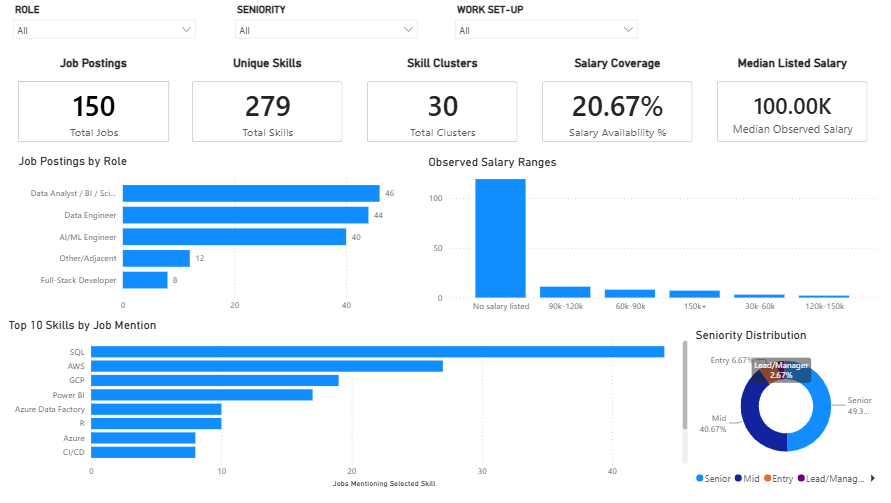

This screenshot's page, from the dashboard's own definition file:
{"tool":"powerbi","page":{"name":"Market Overview","canvas":[1280,720],"ordinal":0},"visuals":[{"type":"slicer","fields":{"Values":["jobs_enriched.standardized_role"]},"box":[9.3,0,280.8,80.7],"z":0},{"type":"slicer","fields":{"Values":["jobs_enriched.seniority_level_for_scoring"]},"box":[327.4,0,280.8,80.7],"z":1000},{"type":"slicer","fields":{"Values":["jobs_enriched.work_setup_final"]},"box":[640.8,0,280.8,80.7],"z":2000},{"type":"cardVisual","title":"Job Postings","fields":{"Data":["_Measures.Total Jobs"]},"box":[9.3,80.7,250,140],"z":3000},{"type":"cardVisual","title":"Unique Skills","fields":{"Data":["_Measures.Total Skills"]},"box":[259.1,80.7,249.8,140],"z":4000},{"type":"cardVisual","title":"Skill Clusters","fields":{"Data":["_Measures.Total Clusters"]},"box":[508.9,80.7,249.8,140],"z":5000},{"type":"cardVisual","title":"Salary Coverage","fields":{"Data":["_Measures.Salary Availability %"]},"box":[758.7,80.7,249.8,140],"z":6000},{"type":"cardVisual","title":"Median Listed Salary","fields":{"Data":["_Measures.Median Observed Salary"]},"box":[1008.5,80.7,249.8,140],"z":7000},{"type":"clusteredBarChart","title":"Job Postings by Role","fields":{"Y":["_Measures.Total Jobs"],"Category":["jobs_enriched.standardized_role"]},"box":[23.3,220.3,564.8,234.3],"z":8000},{"type":"donutChart","title":"Seniority Distribution","fields":{"Category":["jobs_enriched.seniority_level_for_scoring"],"Y":["_Measures.Total Jobs"]},"box":[989.7,469.3,268.4,233.7],"z":9000},{"type":"clusteredColumnChart","title":"Observed Salary Ranges","fields":{"Y":["_Measures.Total Jobs"],"Category":["jobs_enriched.Salary Range Bin"]},"box":[608,220.9,650,233.7],"z":10000},{"type":"clusteredBarChart","title":"Top 10 Skills by Job Mention","fields":{"Category":["skills.skill_name"],"Y":["_Measures.Jobs Mentioning Selected Skill"]},"box":[9.1,454.7,980.5,246.5],"z":11000}]}

Visuals, with their boxes in screenshot pixels (x1, y1, x2, y2), scaled from the page's 1280x720 canvas onto the 891x503 screenshot:
slicer - jobs_enriched.standardized_role: detection(6, 0, 202, 56)
slicer - jobs_enriched.seniority_level_for_scoring: detection(228, 0, 423, 56)
slicer - jobs_enriched.work_setup_final: detection(446, 0, 642, 56)
"Job Postings" cardVisual: detection(6, 56, 180, 154)
"Unique Skills" cardVisual: detection(180, 56, 354, 154)
"Skill Clusters" cardVisual: detection(354, 56, 528, 154)
"Salary Coverage" cardVisual: detection(528, 56, 702, 154)
"Median Listed Salary" cardVisual: detection(702, 56, 876, 154)
"Job Postings by Role" clusteredBarChart: detection(16, 154, 409, 318)
"Seniority Distribution" donutChart: detection(689, 328, 876, 491)
"Observed Salary Ranges" clusteredColumnChart: detection(423, 154, 876, 318)
"Top 10 Skills by Job Mention" clusteredBarChart: detection(6, 318, 689, 490)
